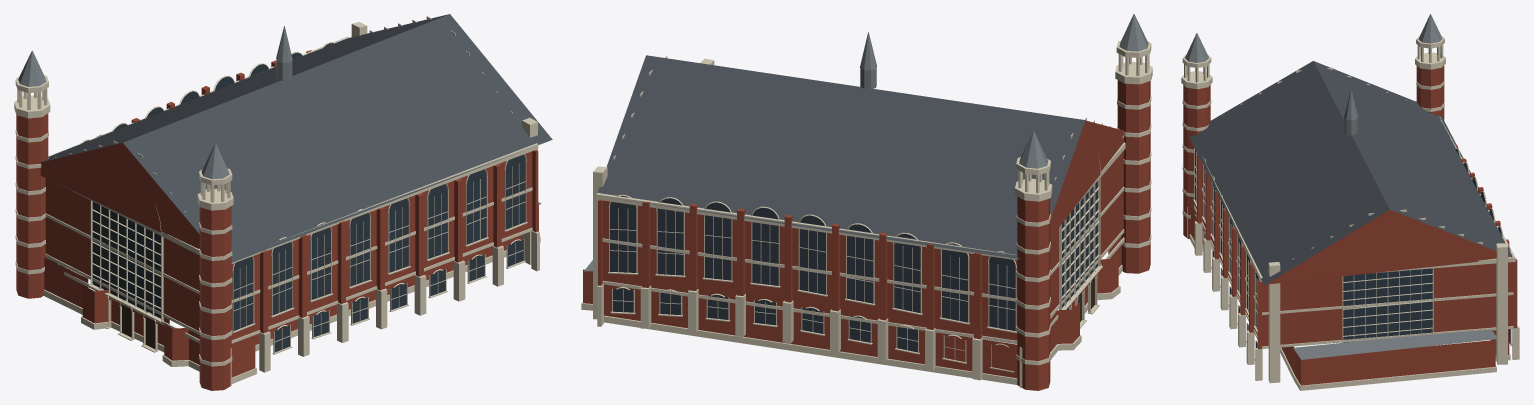
The model's file is holy_trinity_sloane_street.glb.
3 views of the same model, side by side, from view 1: azimuth 30°, elevation 25°; view 2: azimuth 150°, elevation 25°; view 3: azimuth 270°, elevation 25° (orthographic). The views are drawn at different scales.
Size of the model in its own units: 56.97 by 30.6 by 44.43.
